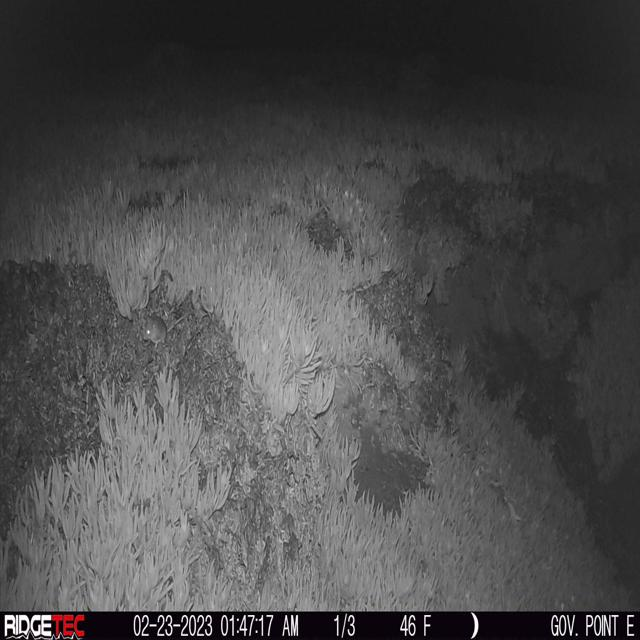rodent: (142, 311, 194, 347)
